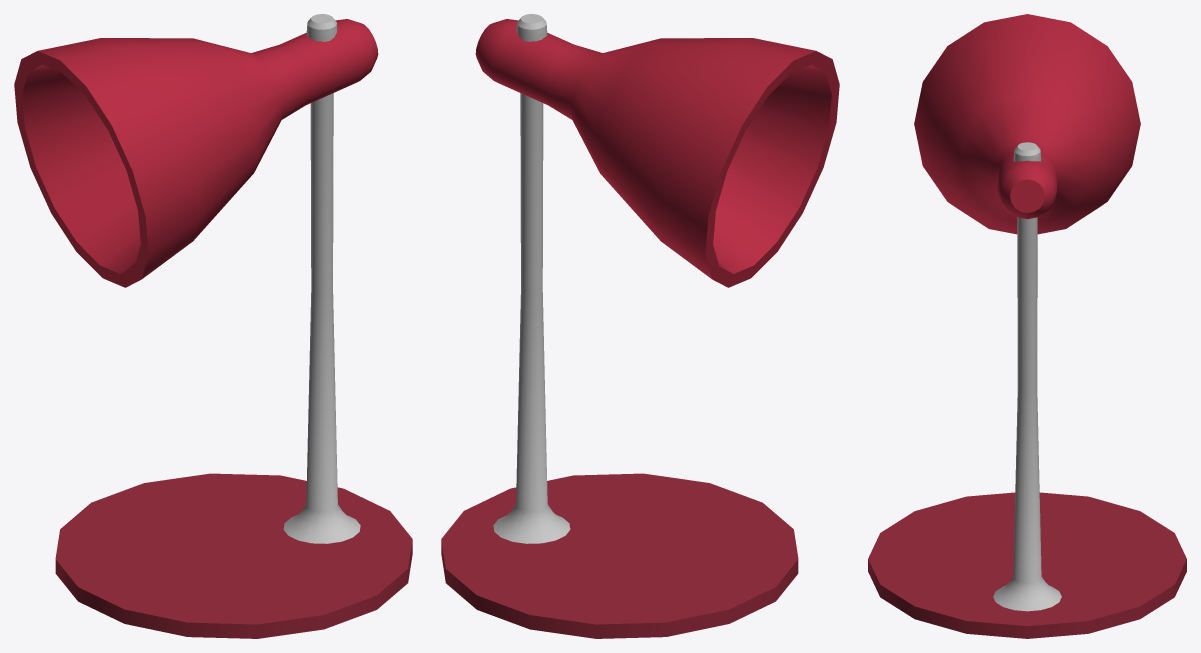
File: Lamp.fbx
3 renders of one model, left to right at view 1: azimuth 30°, elevation 25°; view 2: azimuth 150°, elevation 25°; view 3: azimuth 270°, elevation 25°, orthographic. The views are drawn at different scales.
Visible parts, largest first — view 1: Lamp; view 2: Lamp; view 3: Lamp.
Part boxes in pixels (bbox=[...]): Lamp: bbox=[14, 14, 412, 638]; Lamp: bbox=[441, 14, 839, 638]; Lamp: bbox=[868, 14, 1186, 638].
Size of the model in its own units: 211 by 334 by 200.
